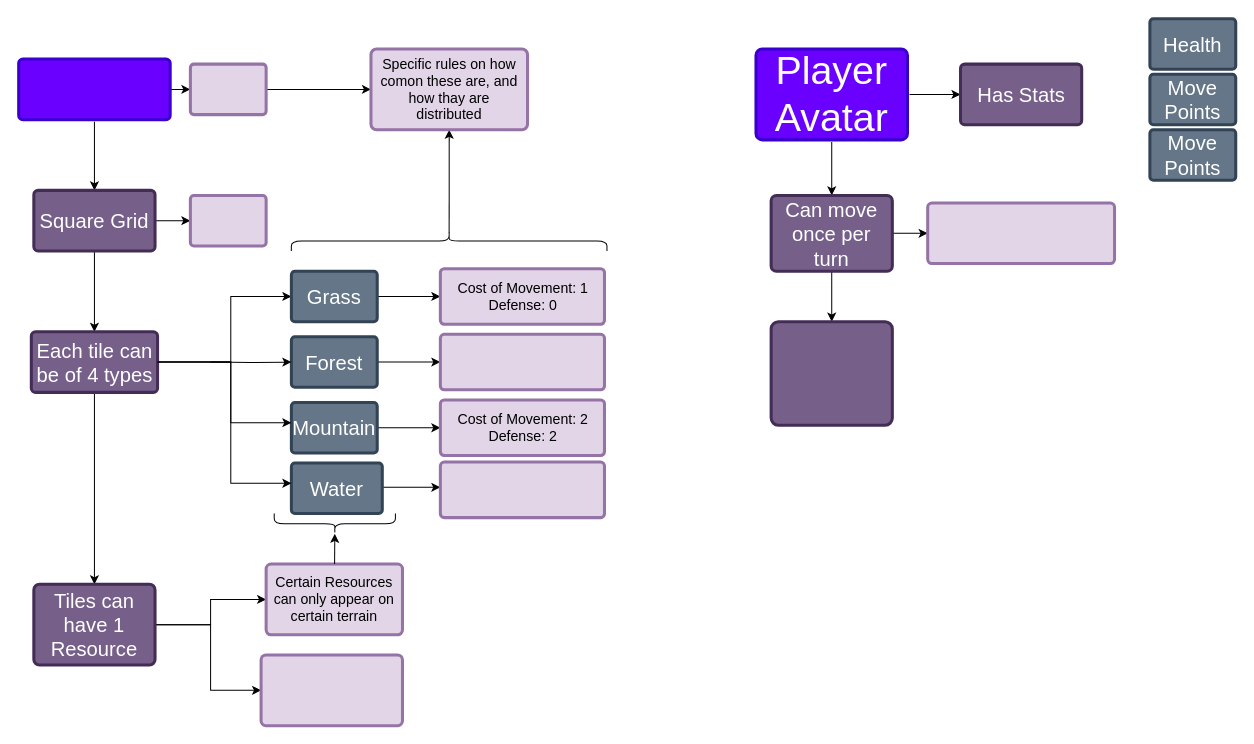
The diagram is 1254 pixels wide and 744 high, and some of its shapes have lost their labels. The box of each missing label's shape, as (x1, y1, x2, y2) in pixels:
Board: (17, 57, 171, 121)
Cant move here: (438, 460, 605, 519)
Cost of Movement: 2 Defense: 1: (438, 332, 605, 391)
Max distance determined by Move Points (3) and terrain cost of Movement: (926, 201, 1116, 265)
Moving the Avatar ends the Player Turn: (769, 320, 893, 426)
Players Adjacent to Resources gain a Benefit: (259, 653, 403, 727)
Randomly generated content: (188, 62, 267, 116)
Size? Lets say 10 x 10: (188, 193, 267, 247)
